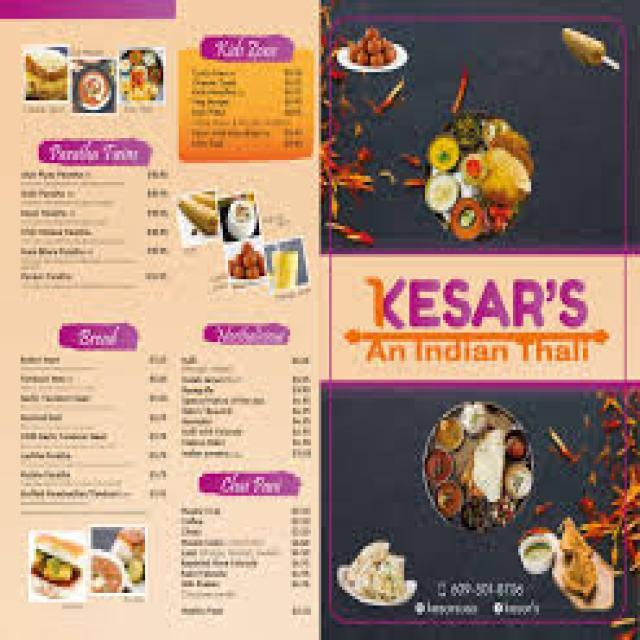papad: (342, 543, 411, 606), (465, 434, 507, 499), (476, 151, 530, 198)
rice: (463, 433, 506, 500)
roti: (556, 521, 606, 606)
sweet: (504, 449, 533, 502), (431, 479, 465, 521), (426, 135, 460, 173)
